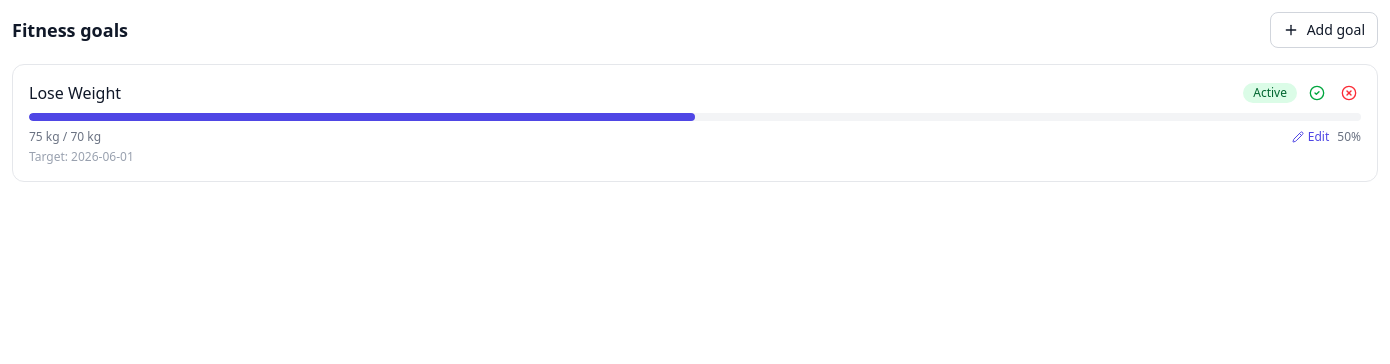
Test case: FitnessGoalsTab › closes edit form when Cancel is clicked
The width and height of the screenshot is (1390, 364).
Click the button "Edit" at (1311, 137), box [1292, 129, 1329, 145]
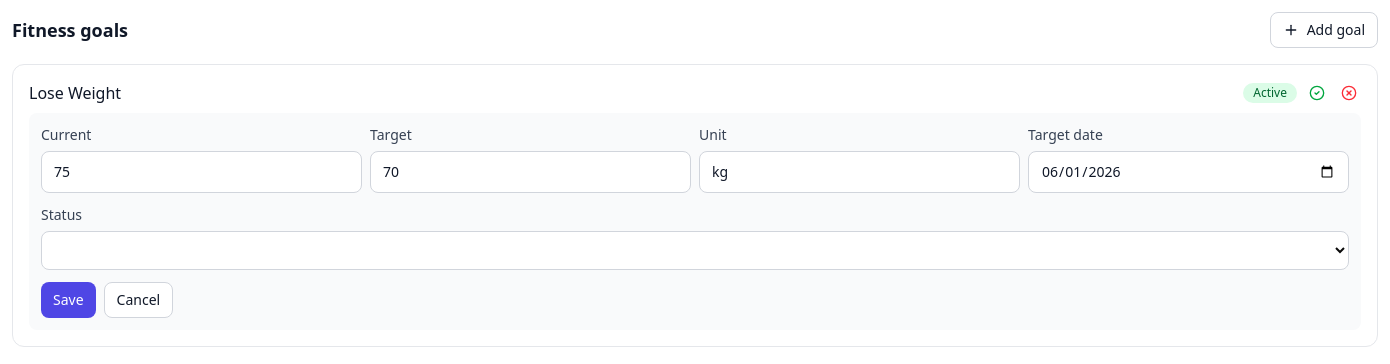
Expected: the number field labelled "Current" is shown, [41, 151, 362, 193]
Click the button "Cancel" at (138, 300), box [104, 282, 173, 318]
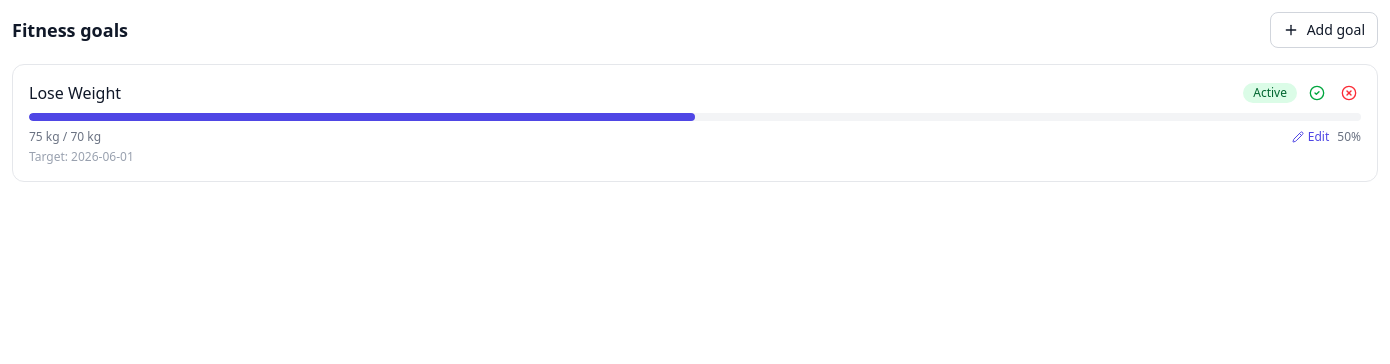
Expected: the label labelled "Current" is gone
